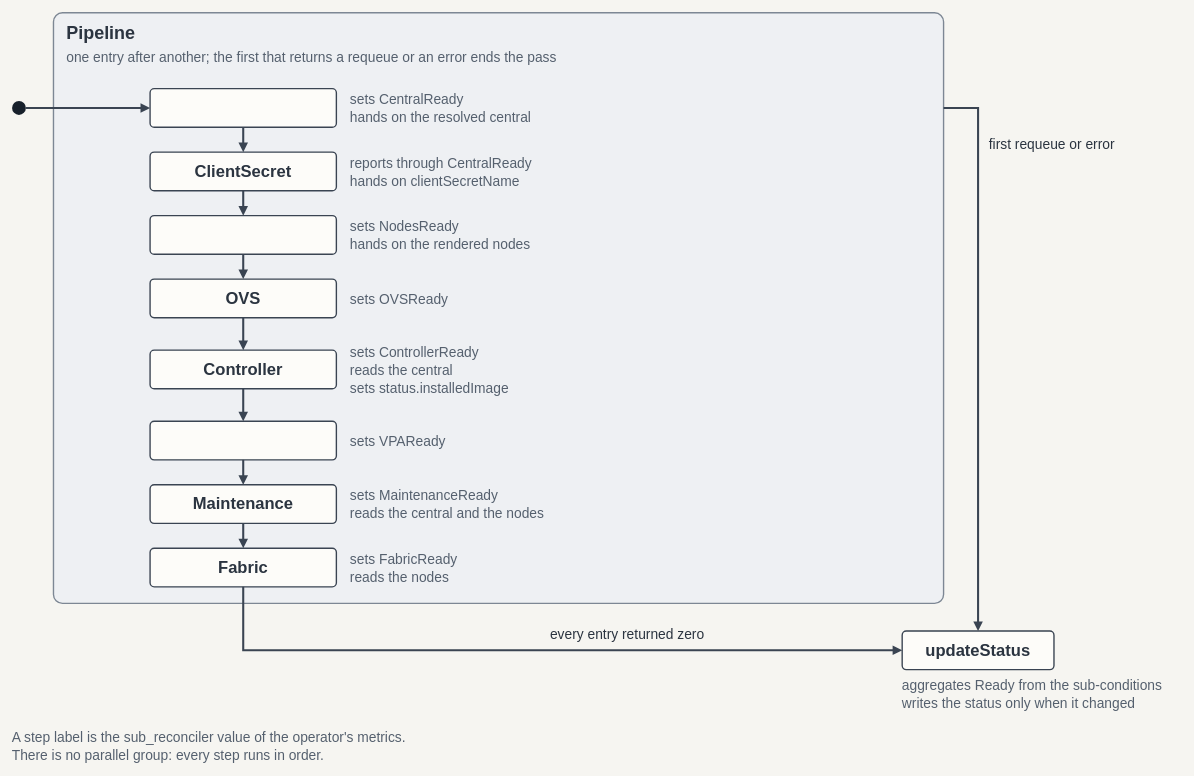
The diagram is 1194 pixels wide and 776 high, and some of its shapes have lost their labels. The centre of each missing label's shape, as x and y in pixels:
"Central" belongs at pixel 243 108.
"ChassisVPA" belongs at pixel 243 440.
"Nodes" belongs at pixel 243 235.
